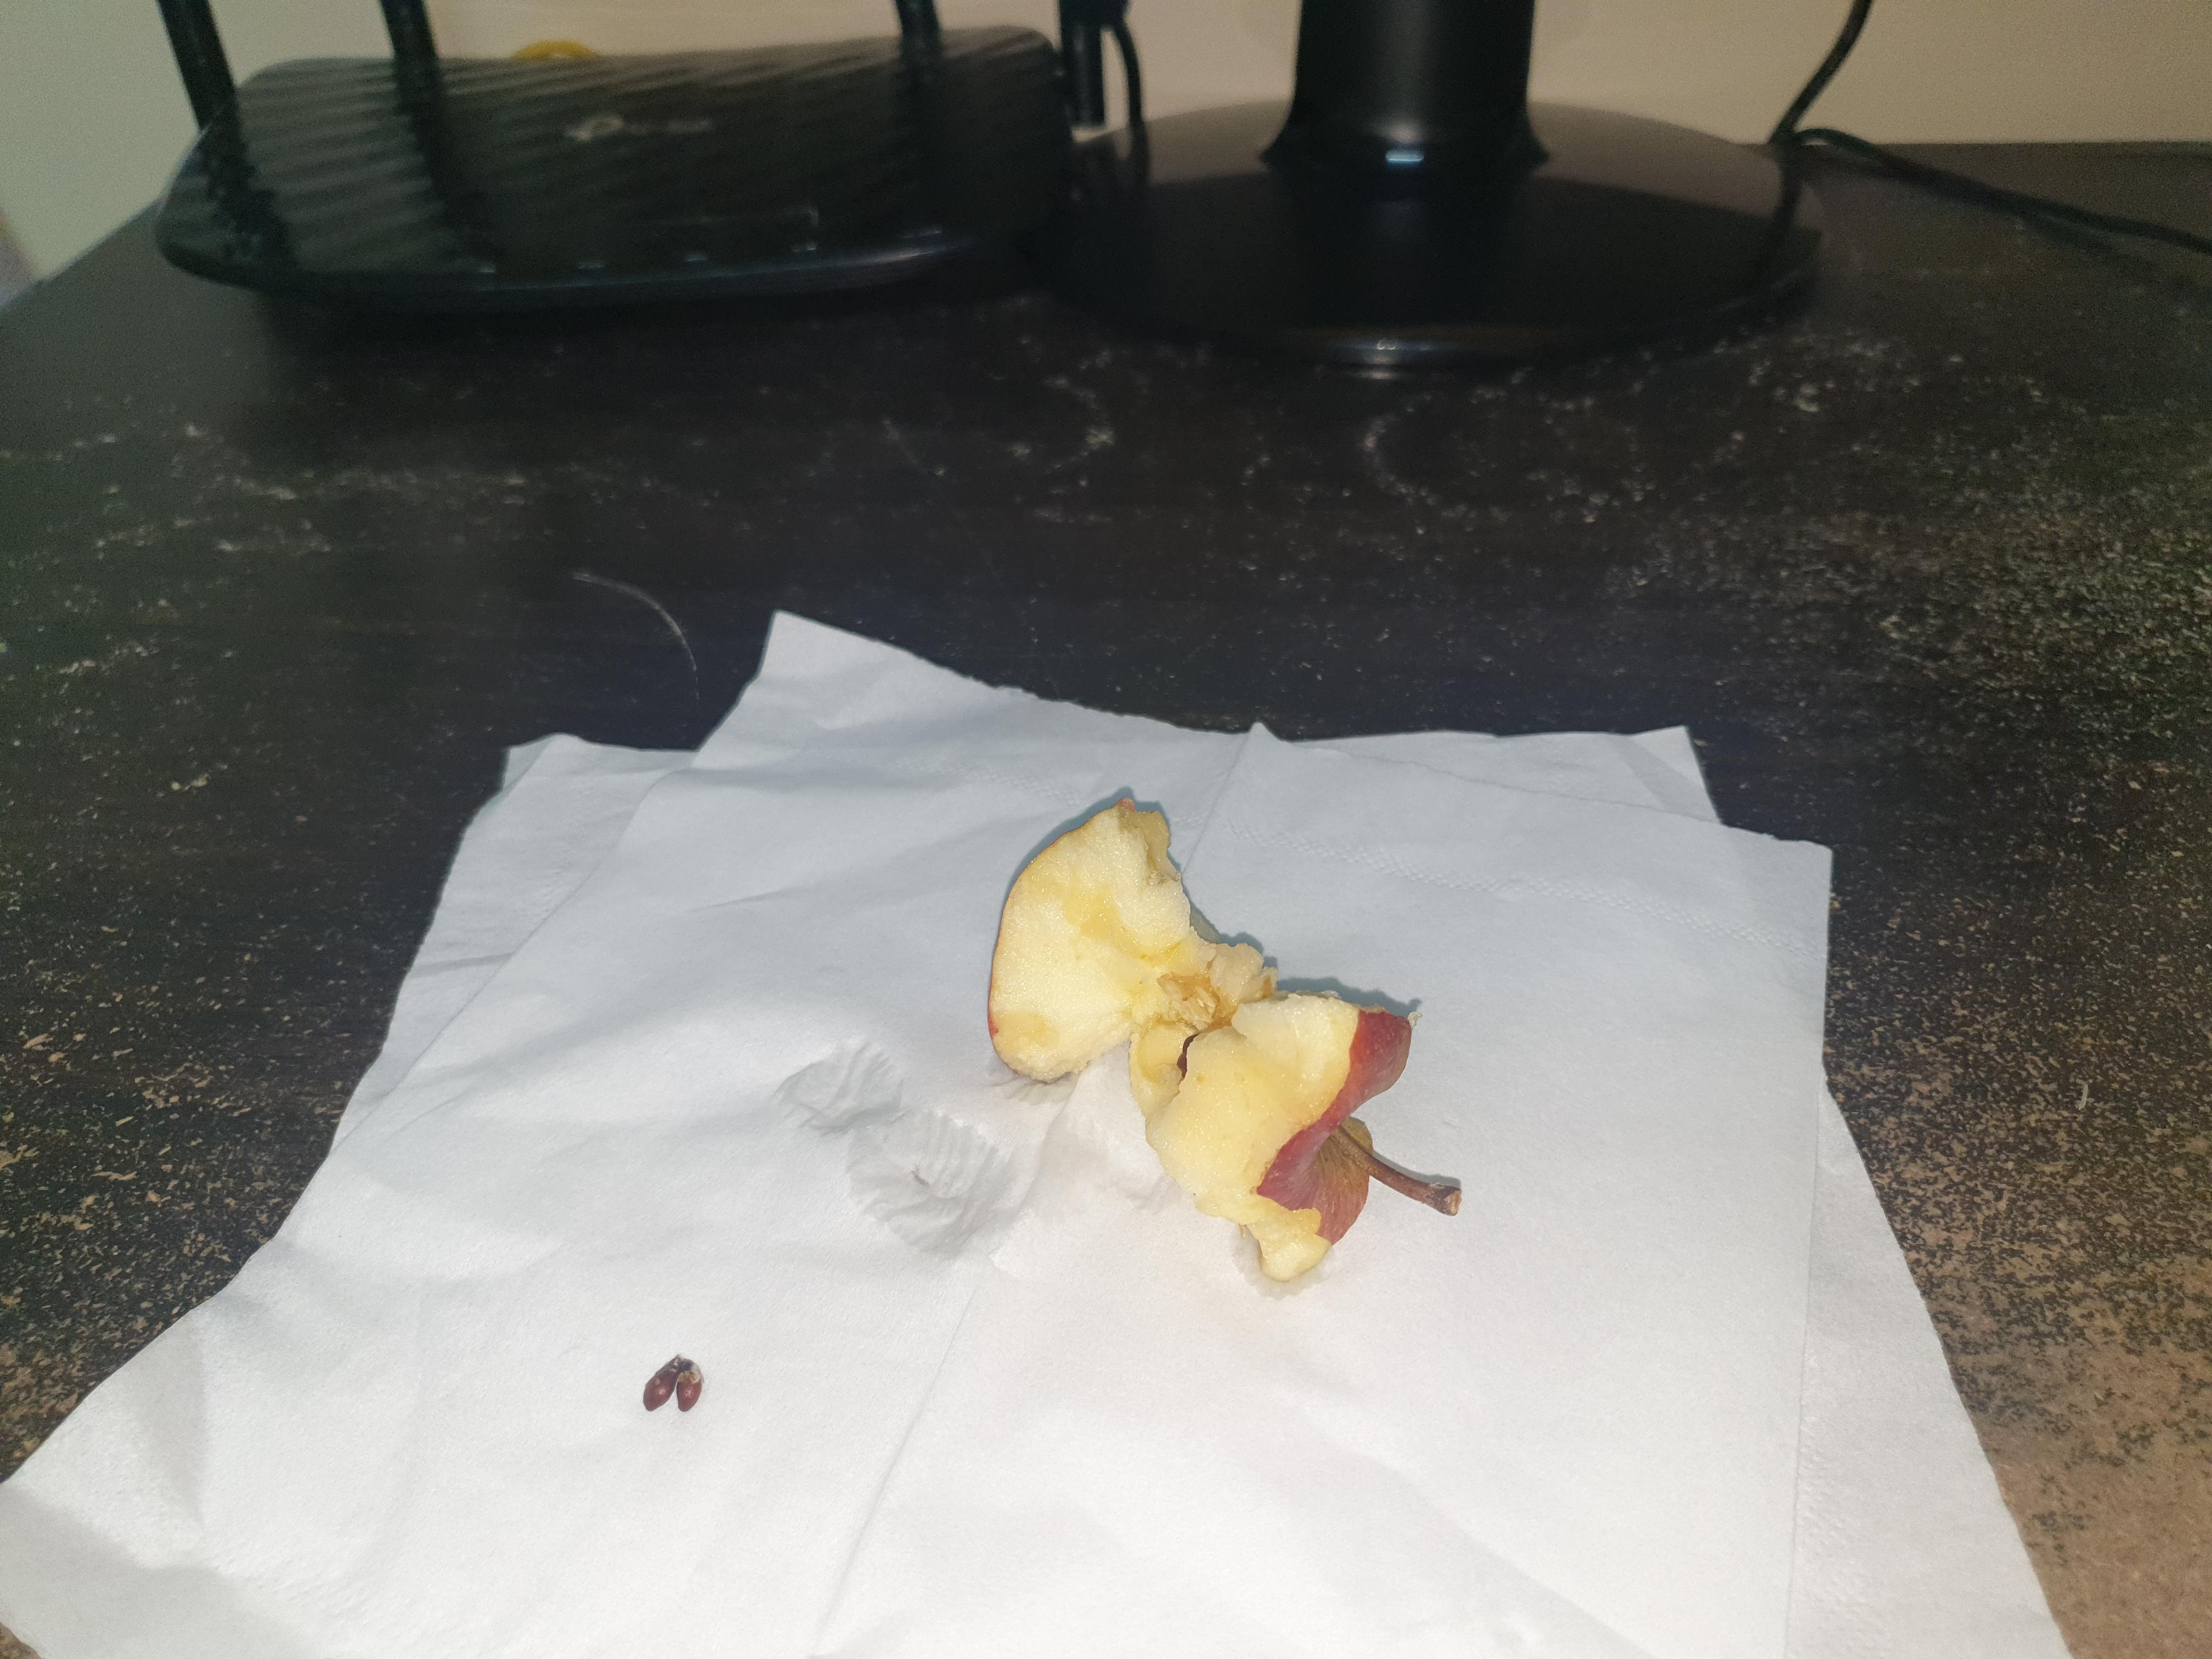Apple: (986, 755, 1500, 1312)
